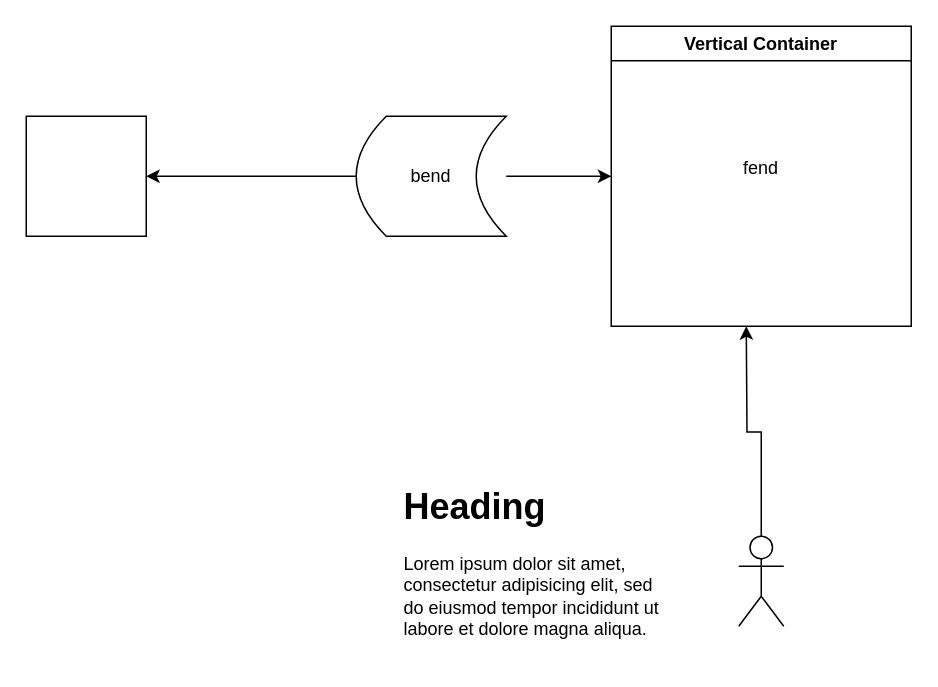
This 938x687 diagram has some shape labels left out. Each missing label, with the centre of its shape:
Actor: the point at 760,580
bbdd: the point at 85,175
